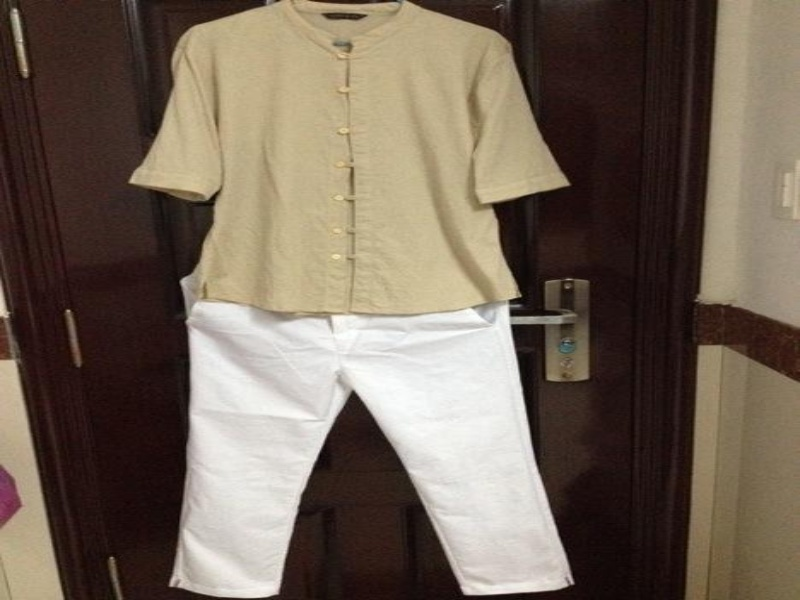short_sleeved_shirt: (128, 2, 571, 315)
trousers: (152, 271, 595, 599)
